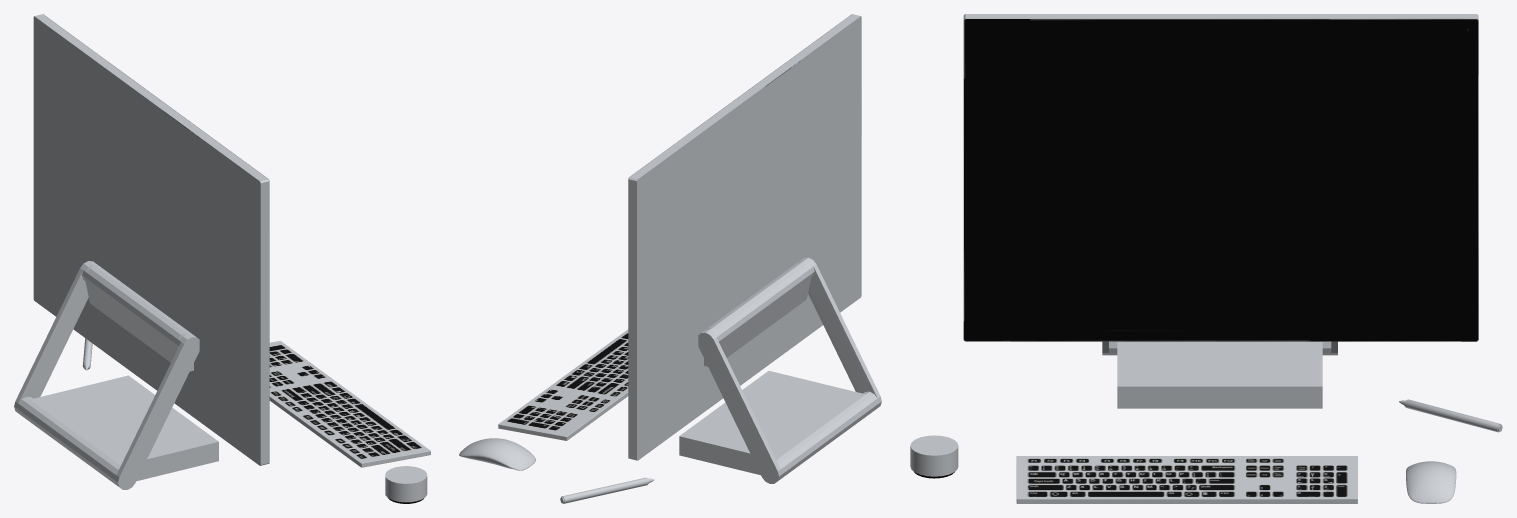
The model's file is computer.glb.
The picture shows the model from 3 angles, left to right: view 1: azimuth 30°, elevation 25°; view 2: azimuth 150°, elevation 25°; view 3: azimuth 270°, elevation 25°; orthographic projection. The views are drawn at different scales.
Visible parts, largest first — view 1: OBJ_Computador; view 2: OBJ_Computador; view 3: OBJ_Computador.
Part boxes in pixels (x1=…): OBJ_Computador: x1=14, y1=14, x2=430, y2=503; OBJ_Computador: x1=459, y1=14, x2=881, y2=503; OBJ_Computador: x1=910, y1=14, x2=1502, y2=503.
Size of the model in its own units: 0.5617 by 0.6525 by 0.9149.
1 material, 1 textured.
